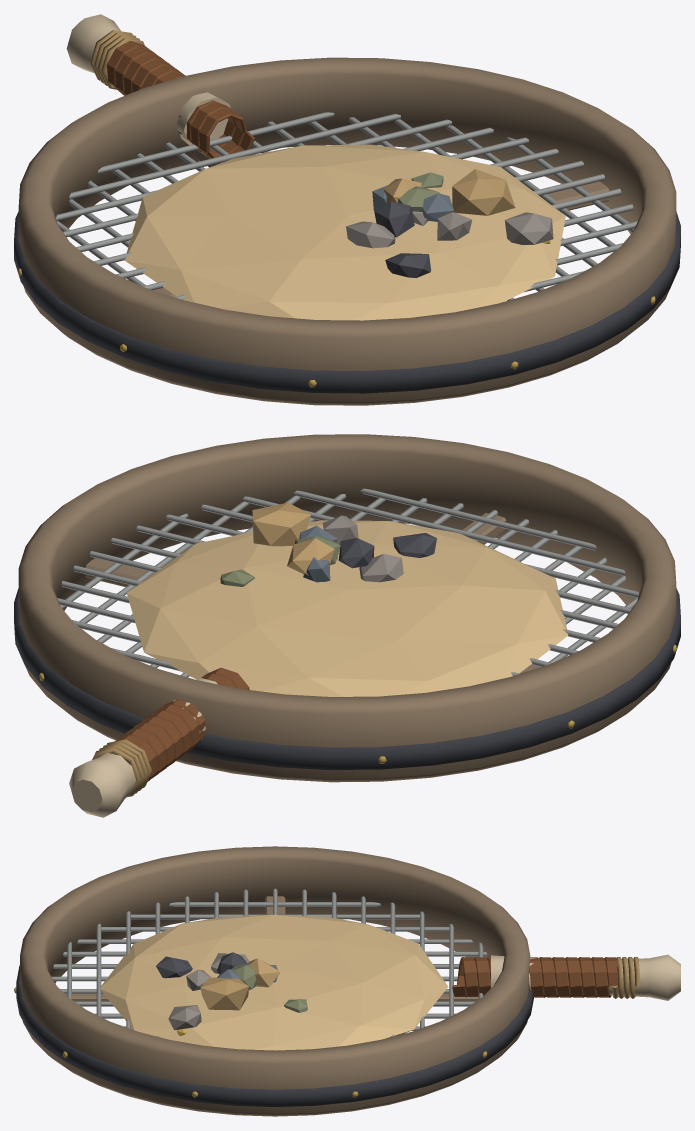
The model's file is tool_siftingpan.fbx.
3 views of the same model, one above another, from view 1: azimuth 30°, elevation 25°; view 2: azimuth 150°, elevation 25°; view 3: azimuth 270°, elevation 25° (orthographic). The views are drawn at different scales.
Visible parts, largest first — view 1: Tool_SiftingPan_Rim, Tool_SiftingPan_Gravel, Tool_SiftingPan_Mesh, Tool_SiftingPan_Wrap, Tool_SiftingPan_Handle; view 2: Tool_SiftingPan_Rim, Tool_SiftingPan_Gravel, Tool_SiftingPan_Mesh, Tool_SiftingPan_Wrap, Tool_SiftingPan_Handle; view 3: Tool_SiftingPan_Rim, Tool_SiftingPan_Gravel, Tool_SiftingPan_Mesh, Tool_SiftingPan_Wrap, Tool_SiftingPan_Handle.
Boxes of the visible parts, x1,y1,x2,y2 form: Tool_SiftingPan_Rim: (14,57,680,405); Tool_SiftingPan_Gravel: (124,144,565,320); Tool_SiftingPan_Mesh: (56,112,637,300); Tool_SiftingPan_Wrap: (89,30,254,163); Tool_SiftingPan_Handle: (66,14,230,145); Tool_SiftingPan_Rim: (14,434,680,782); Tool_SiftingPan_Gravel: (127,502,568,696); Tool_SiftingPan_Mesh: (57,488,638,677); Tool_SiftingPan_Wrap: (92,667,249,796); Tool_SiftingPan_Handle: (69,678,217,817); Tool_SiftingPan_Rim: (14,846,533,1116); Tool_SiftingPan_Gravel: (101,914,448,1050); Tool_SiftingPan_Mesh: (52,888,487,1036); Tool_SiftingPan_Wrap: (452,957,640,998); Tool_SiftingPan_Handle: (491,954,680,1000).
Size of the model in its own units: 56.4 by 8.31 by 72.65.
